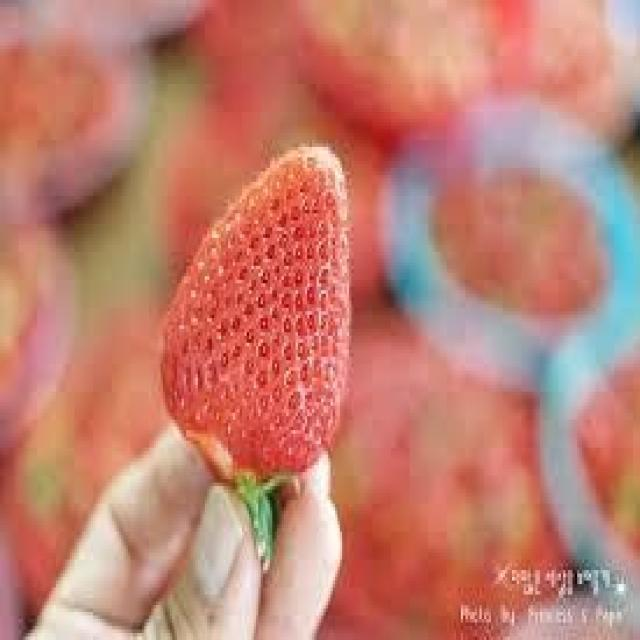Healthy Fruit: (158, 139, 353, 570)
